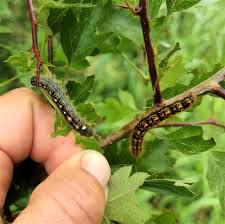Caterpillar: (27, 70, 98, 147), (124, 93, 197, 155)
